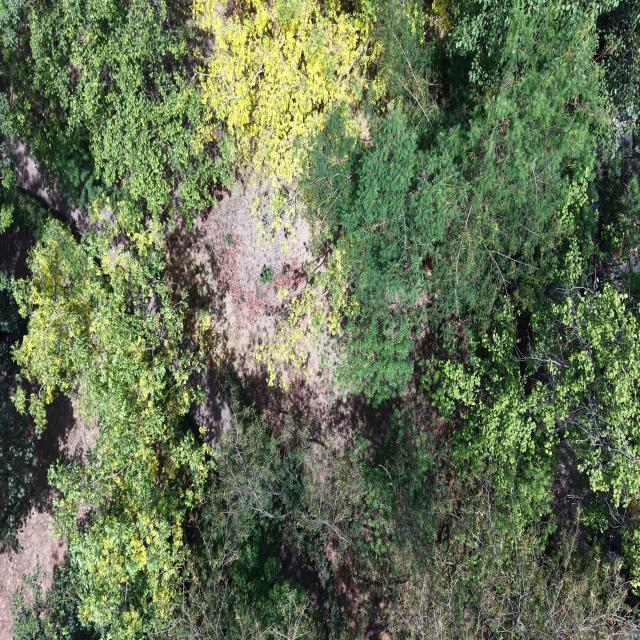DRY_AREA: (166, 183, 386, 460), (167, 185, 392, 448), (166, 184, 385, 444), (166, 182, 365, 441), (166, 184, 362, 439), (166, 179, 362, 430), (166, 180, 348, 425), (166, 182, 343, 423), (167, 184, 342, 422), (167, 187, 335, 418), (166, 183, 312, 375), (168, 189, 309, 378), (168, 192, 308, 379), (0, 396, 97, 639), (0, 397, 96, 639), (0, 397, 81, 639), (0, 500, 65, 639), (10, 136, 99, 237), (0, 509, 66, 639), (11, 136, 89, 233), (189, 367, 231, 447), (0, 225, 34, 278)
VEGETATION_TREE: (0, 0, 639, 639), (306, 3, 611, 401), (172, 411, 637, 638), (14, 201, 212, 637), (438, 283, 639, 567), (2, 0, 228, 216), (173, 408, 323, 638), (194, 0, 376, 185), (0, 271, 38, 546), (0, 274, 33, 544), (11, 564, 100, 639)
